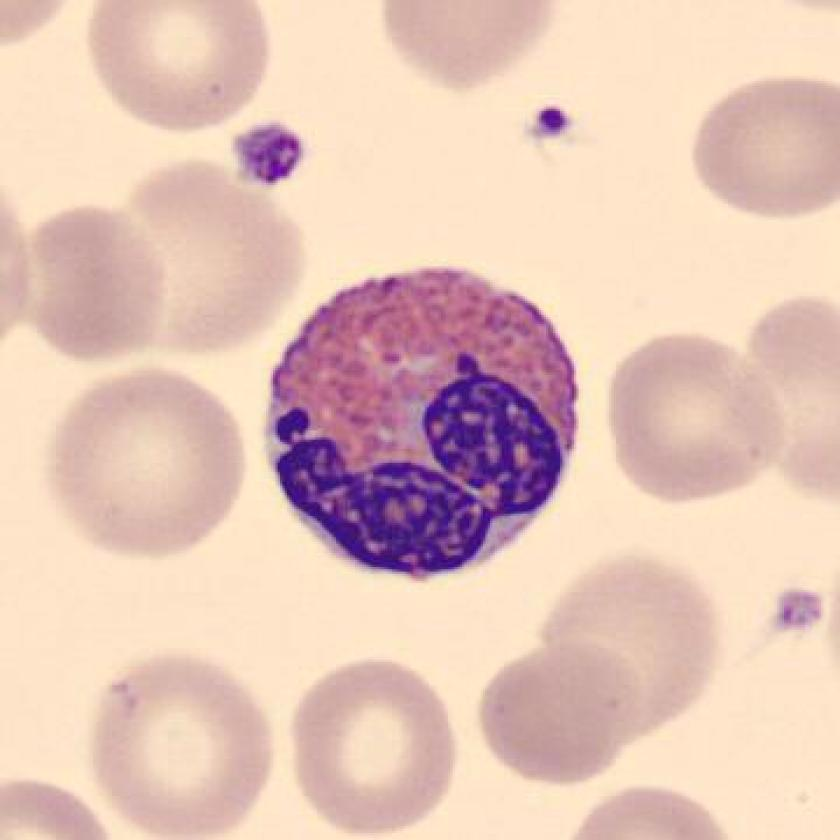eosinophil: (253, 254, 591, 594)
